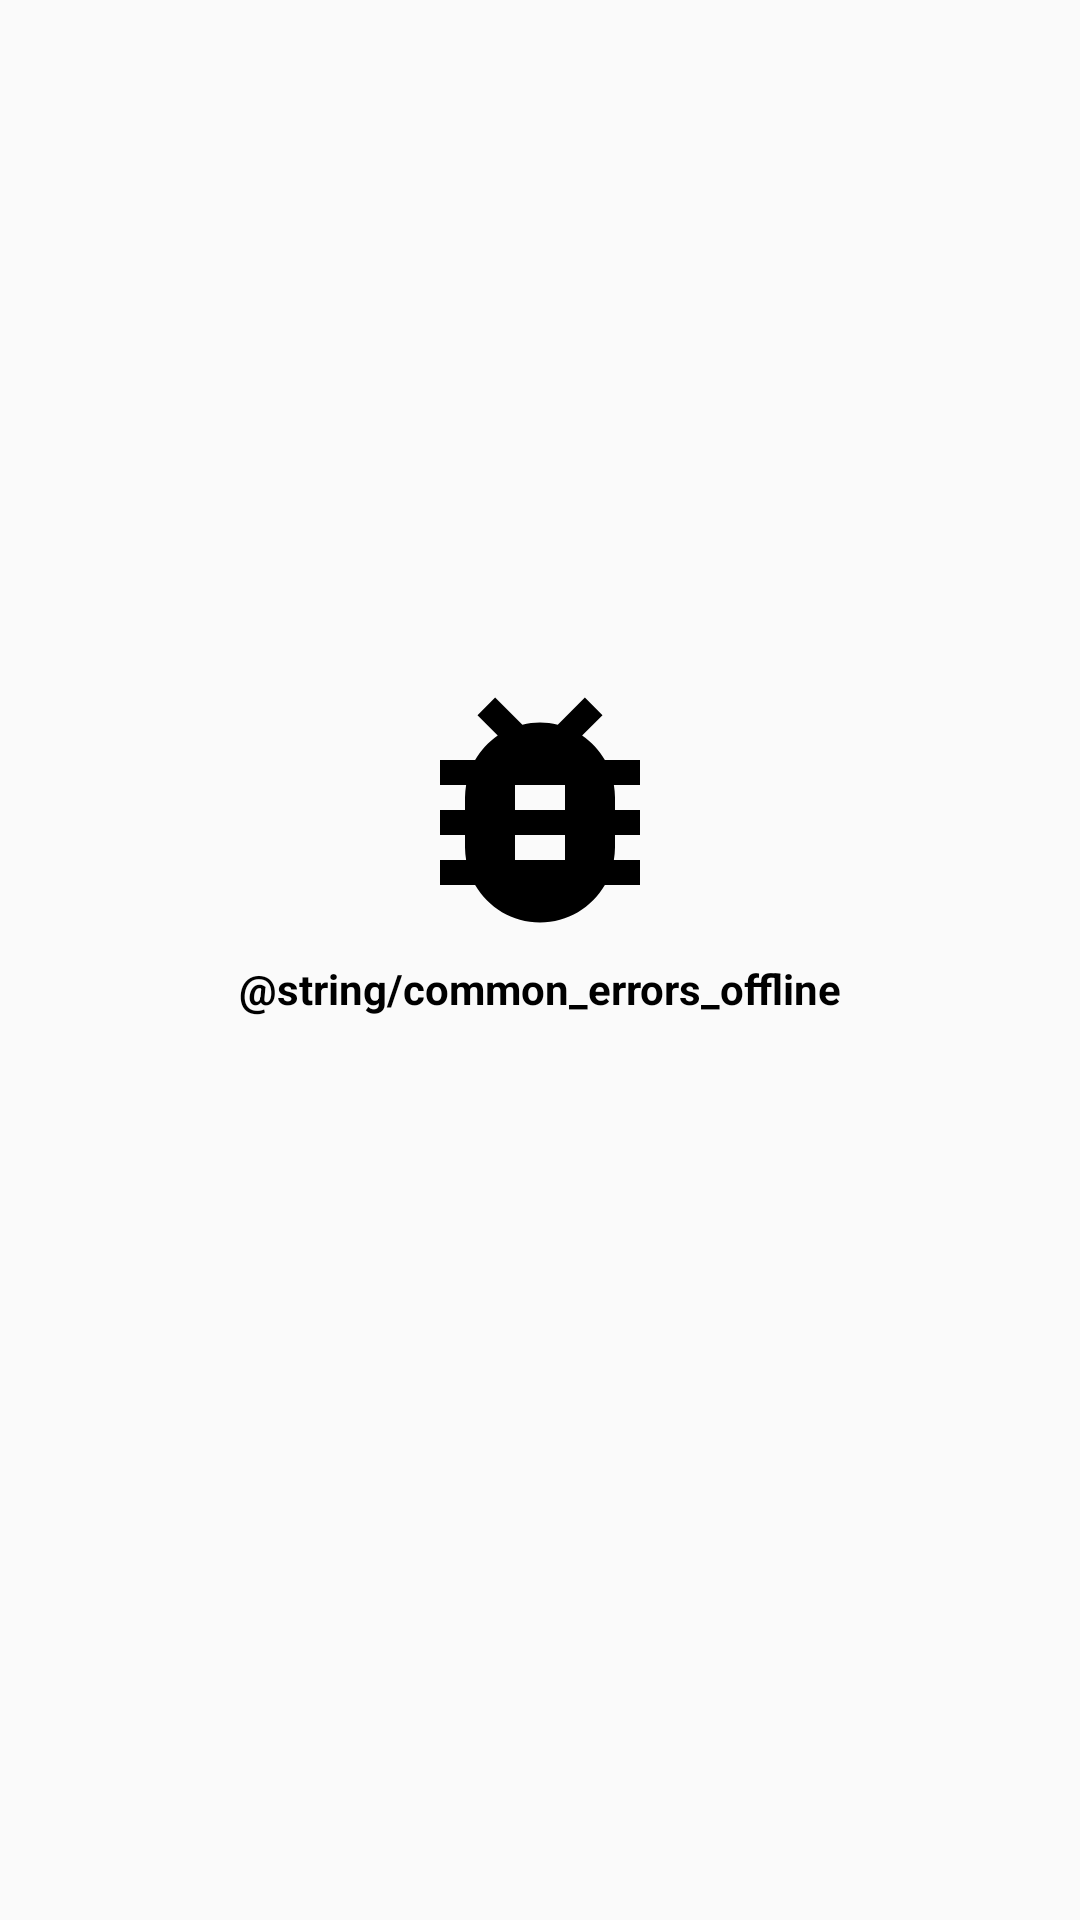

Where icons sit on this 1080×1920 app screen, as box=[x1, y1, x2, y2]:
bug: box=[440, 697, 640, 923]
